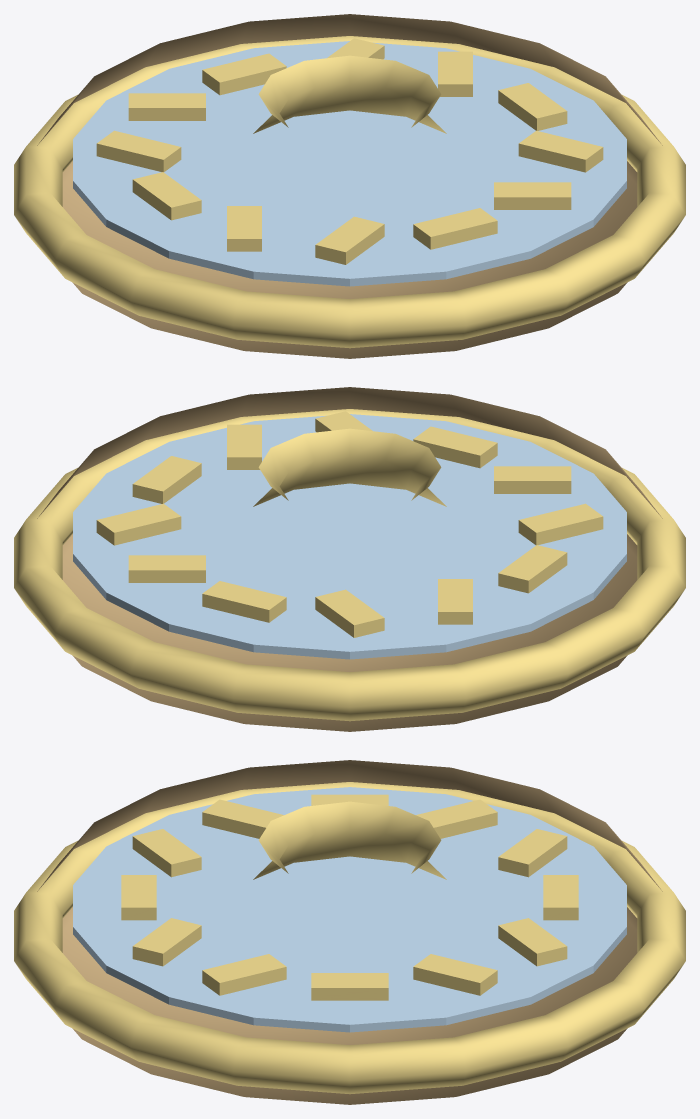
The model's file is mythic-underworld-and-olympus-mirror-shield-68a5e91a__21418.glb.
The picture shows the model from 3 angles, top to bottom: view 1: azimuth 30°, elevation 25°; view 2: azimuth 150°, elevation 25°; view 3: azimuth 270°, elevation 25°; orthographic projection.
Parts seen in each view (by area): view 1: mirror-shield; view 2: mirror-shield; view 3: mirror-shield.
Part boxes in pixels (x1=…): mirror-shield: x1=14, y1=14, x2=685, y2=358; mirror-shield: x1=14, y1=387, x2=685, y2=731; mirror-shield: x1=14, y1=760, x2=685, y2=1104.
Size of the model in its own units: 0.97 by 0.26 by 0.9553.
